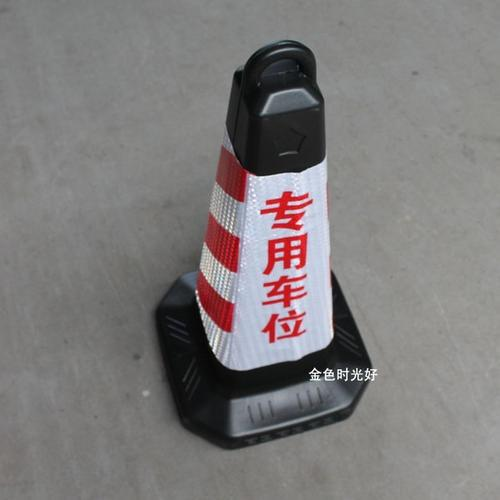cone_barrel: (159, 29, 372, 436)
